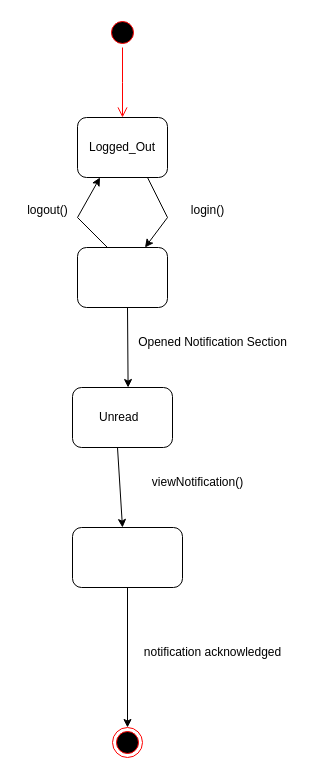
Some shapes in this 314 by 775 pixel diagram are drawn without their labels. The centre of each missing label's shape, as x and y in pixels:
Logged_In: [122,277]
Read: [127,557]
